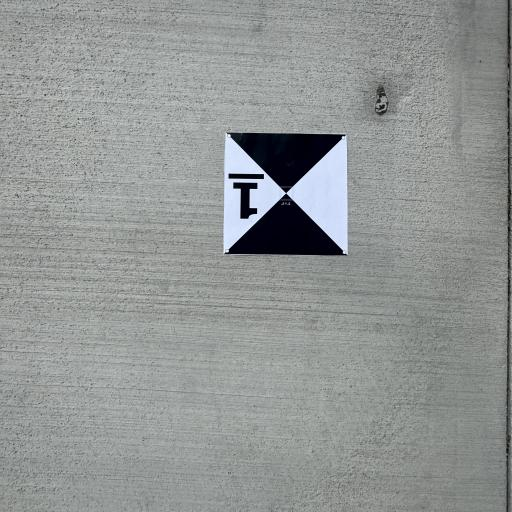target1: (220, 128, 353, 260)
